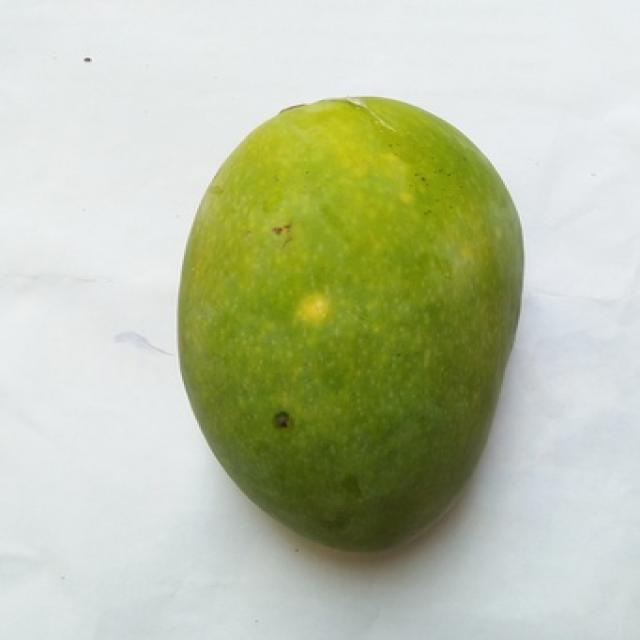Mango: (180, 99, 520, 551)
